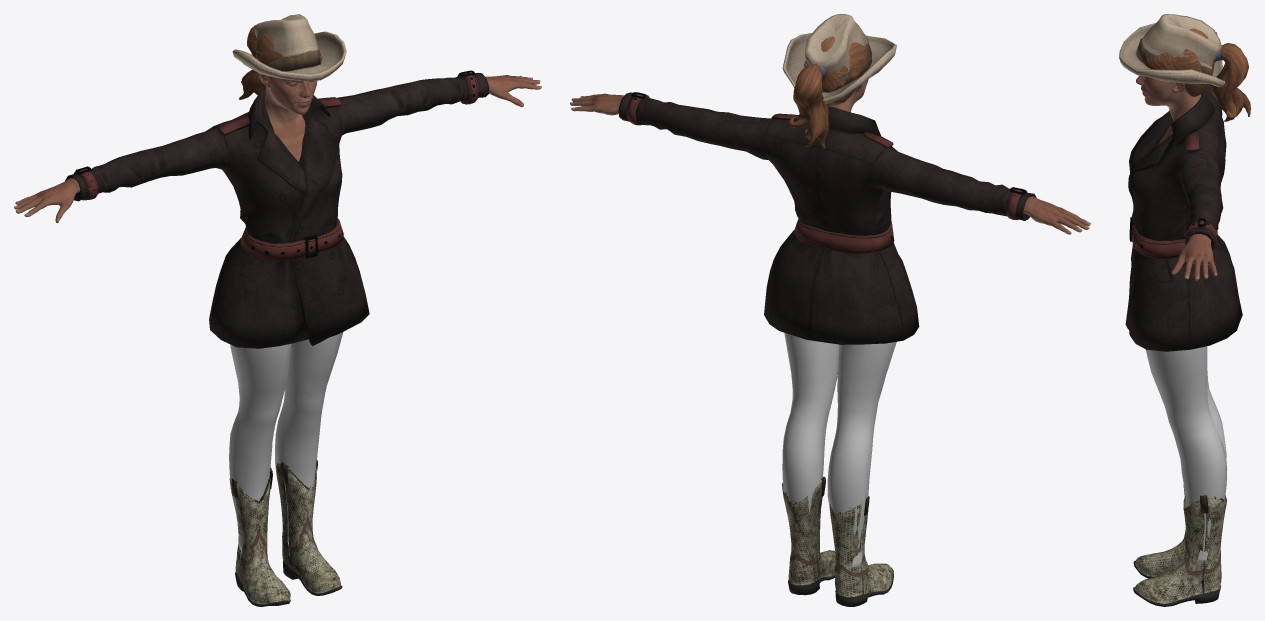
3 views of the same model, side by side, from view 1: azimuth 30°, elevation 25°; view 2: azimuth 150°, elevation 25°; view 3: azimuth 270°, elevation 25° (orthographic).
Visible parts, largest first — view 1: Tops, Bottoms, Shoes, Body, Hats, Hair; view 2: Tops, Bottoms, Shoes, Hats, Hair, Body; view 3: Tops, Bottoms, Shoes, Hats, Hair, Body.
Boxes of the visible parts, left/top/right/bottom form: Tops: left=65, top=70, right=489, bottom=348; Bottoms: left=229, top=332, right=343, bottom=553; Shoes: left=229, top=460, right=342, bottom=606; Body: left=14, top=73, right=541, bottom=223; Hats: left=232, top=14, right=346, bottom=81; Hair: left=239, top=25, right=321, bottom=99; Tops: left=618, top=92, right=1036, bottom=344; Bottoms: left=782, top=333, right=896, bottom=569; Shoes: left=782, top=476, right=893, bottom=606; Hats: left=782, top=14, right=896, bottom=103; Hair: left=789, top=36, right=869, bottom=149; Body: left=570, top=79, right=1090, bottom=234; Tops: left=1125, top=84, right=1242, bottom=351; Bottoms: left=1145, top=346, right=1227, bottom=568; Shoes: left=1133, top=485, right=1226, bottom=606; Hats: left=1119, top=14, right=1225, bottom=87; Hair: left=1145, top=28, right=1250, bottom=121; Body: left=1136, top=32, right=1217, bottom=280.
Bounding box in the file's own units: 180 × 188 × 39.4.
